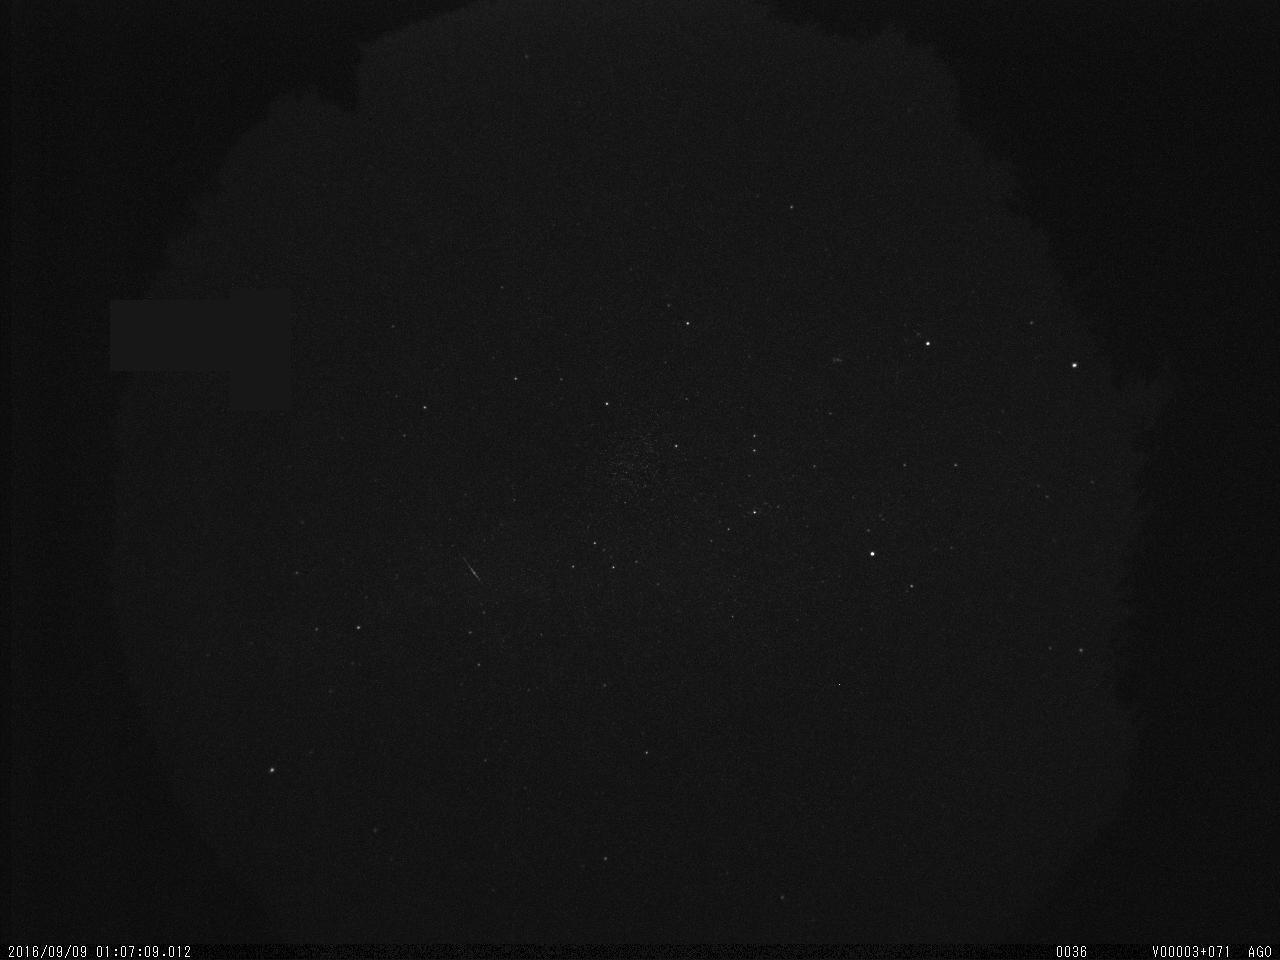Meteor: (456, 547, 484, 589)
